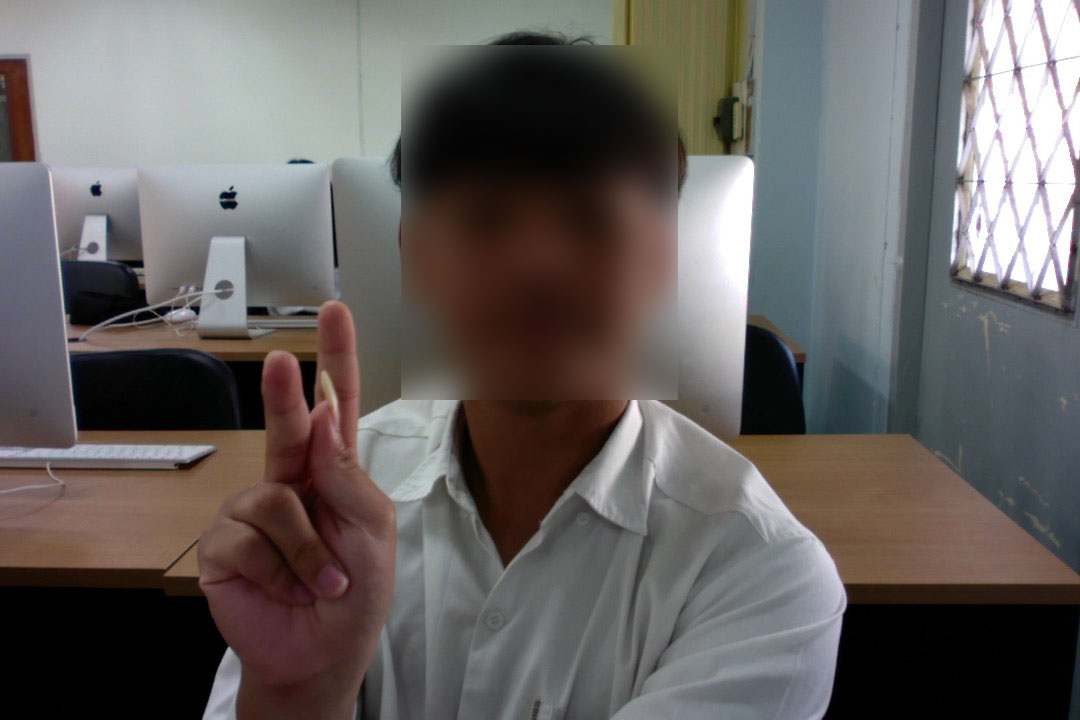ko: (184, 287, 420, 679)
